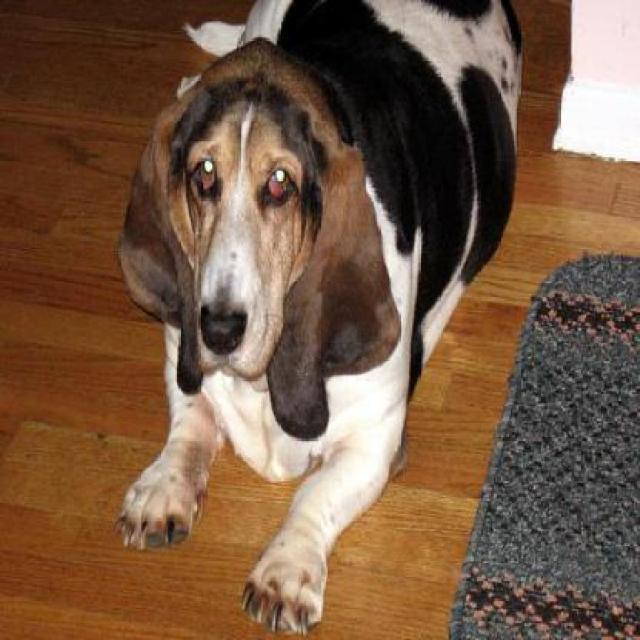Dog: (117, 1, 528, 638)
